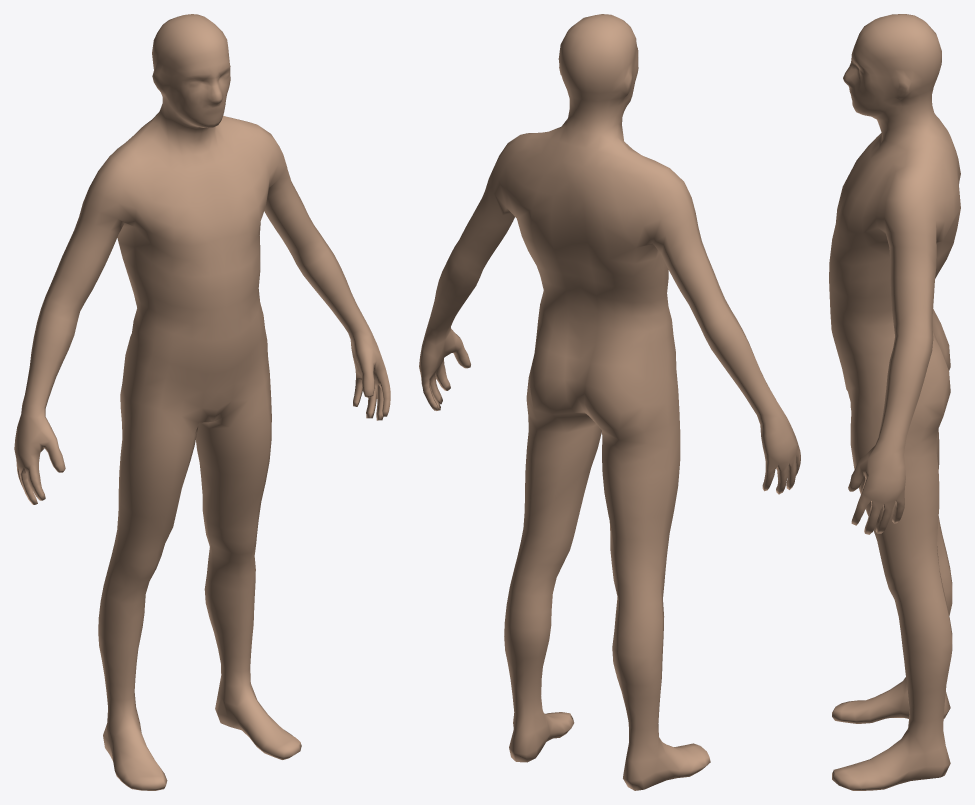
File: man_figure.fbx
3 views of the same model, side by side, from view 1: azimuth 30°, elevation 25°; view 2: azimuth 150°, elevation 25°; view 3: azimuth 270°, elevation 25° (orthographic).
Visible parts, largest first — view 1: humanBody; view 2: humanBody; view 3: humanBody.
Part boxes in pixels (bbox=[...]): humanBody: bbox=[14, 14, 390, 790]; humanBody: bbox=[419, 14, 800, 790]; humanBody: bbox=[829, 14, 960, 790].
Bounding box in the file's own units: 94.57 × 183 × 29.73.
